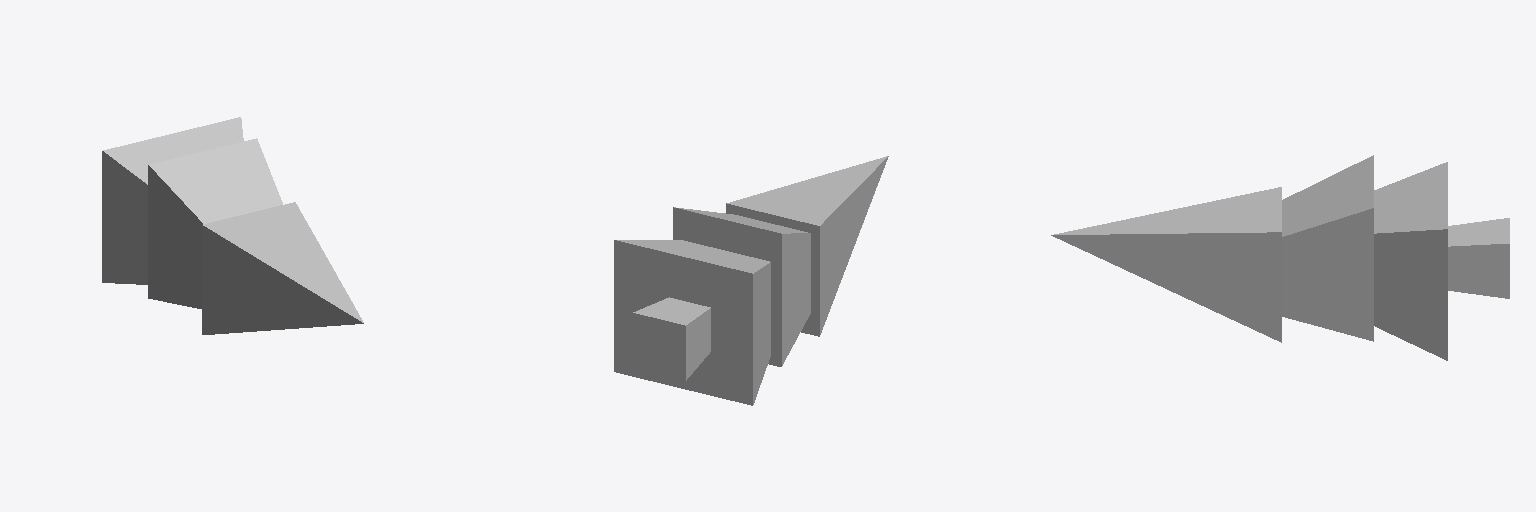
File: Tree.obj
3 renders of one model, left to right at view 1: azimuth 30°, elevation 25°; view 2: azimuth 150°, elevation 25°; view 3: azimuth 270°, elevation 25°, orthographic.
Parts seen in each view (by area): view 1: Mesh1_Tree_Model; view 2: Mesh1_Tree_Model; view 3: Mesh1_Tree_Model.
Part boxes in pixels (x1,y1,x2,y2): Mesh1_Tree_Model: (102,117,363,334); Mesh1_Tree_Model: (614,156,888,405); Mesh1_Tree_Model: (1051,155,1509,360).
Size of the model in its own units: 6.44 by 6.35 by 18.45.